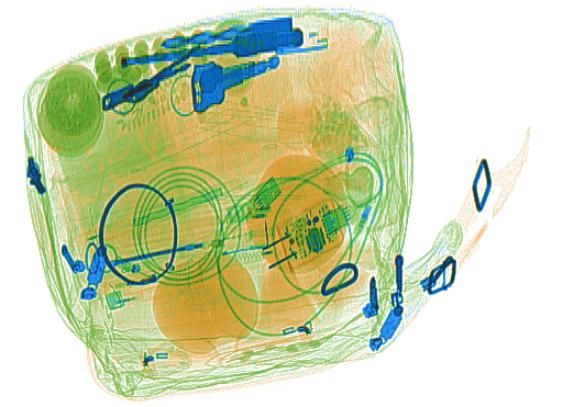lighter: (102, 256, 204, 310)
